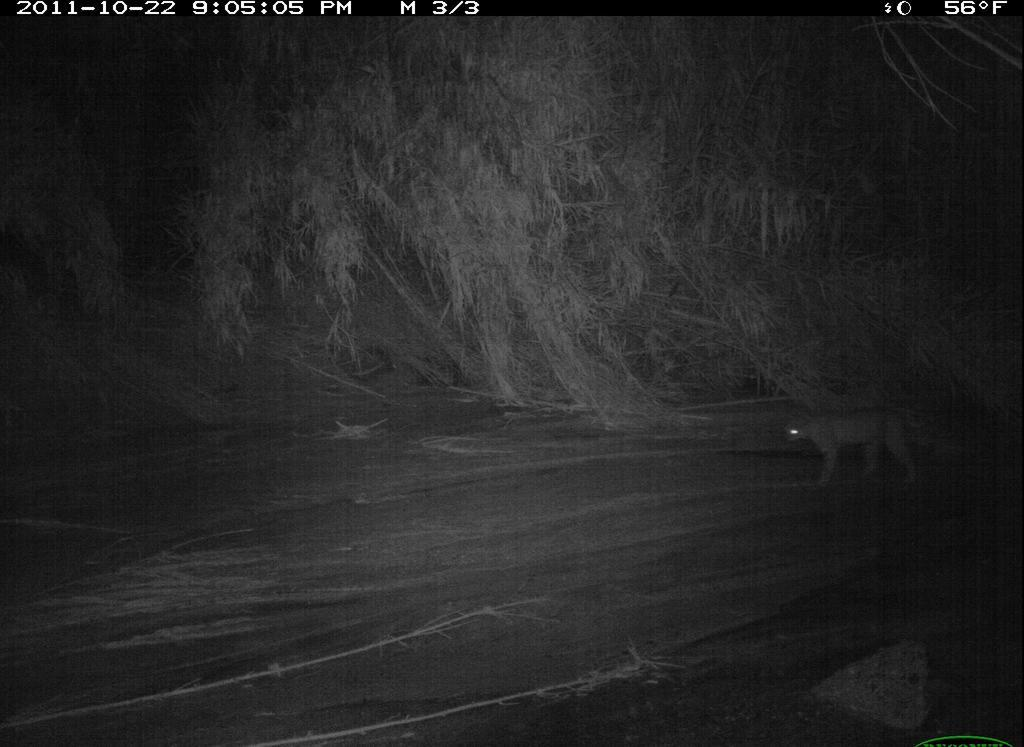bobcat: (770, 401, 946, 497)
